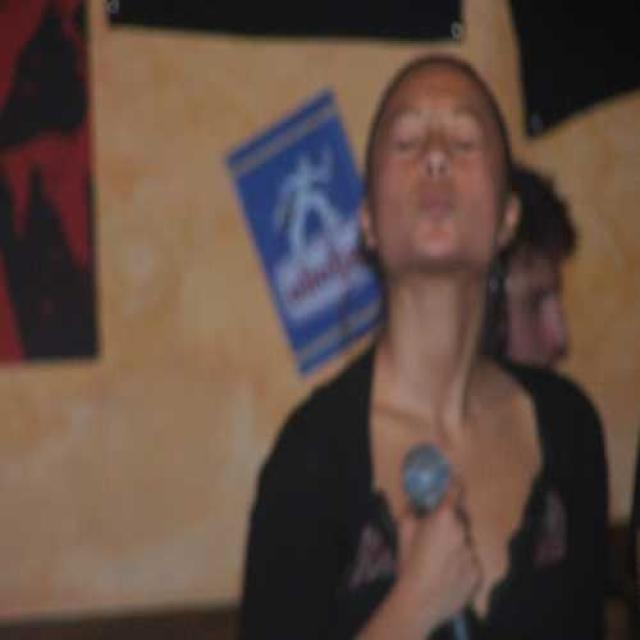microphone: (396, 433, 483, 640)
